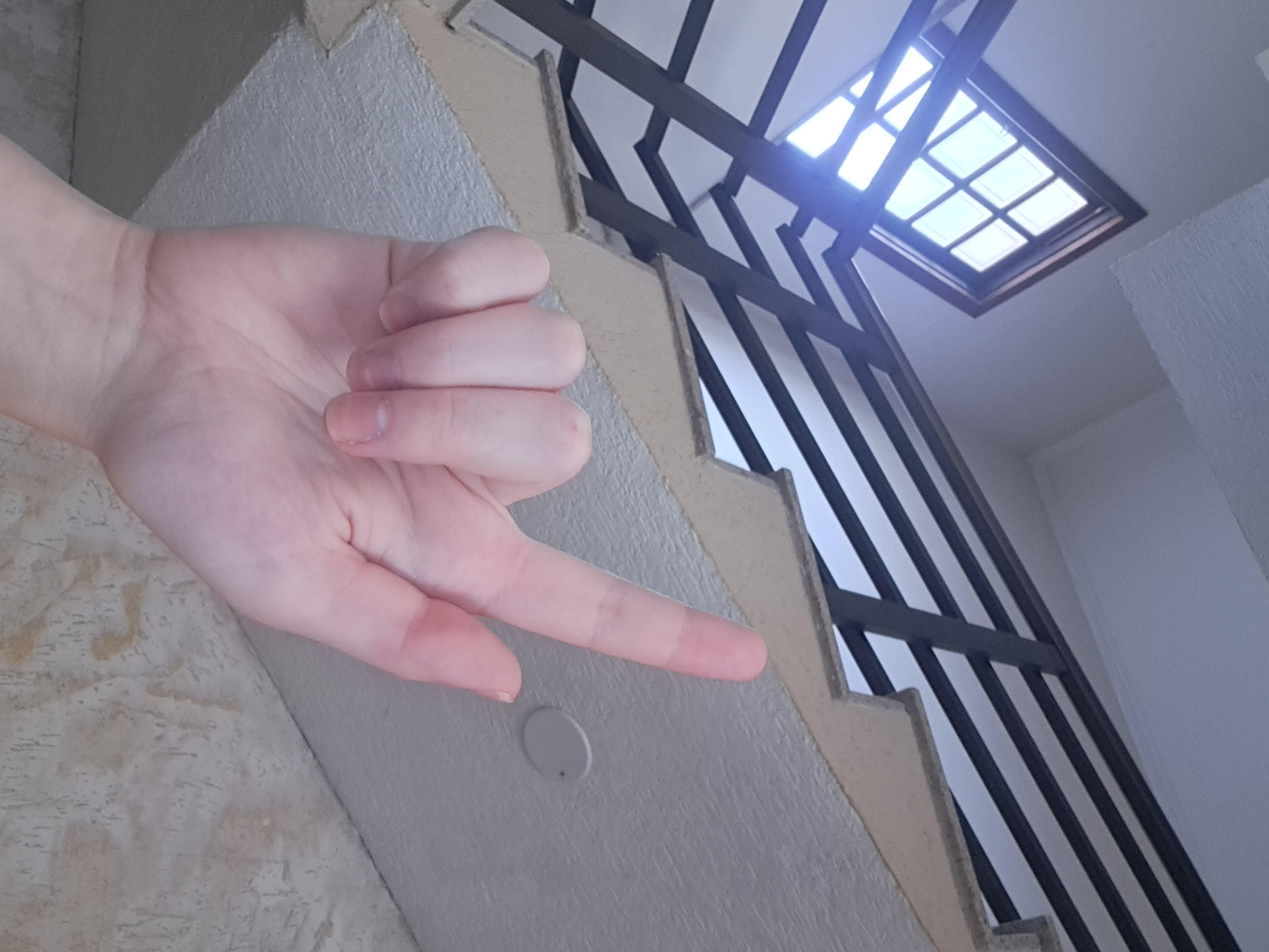G: (259, 368, 975, 858)
